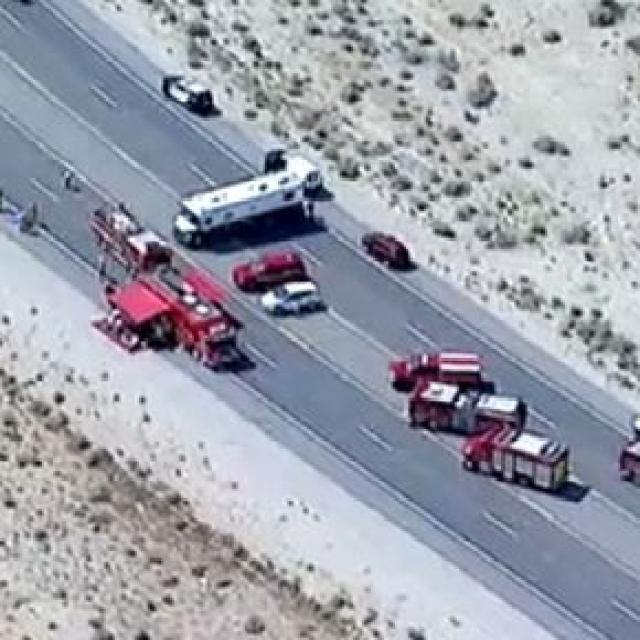traffic_incident: (55, 214, 254, 374)
